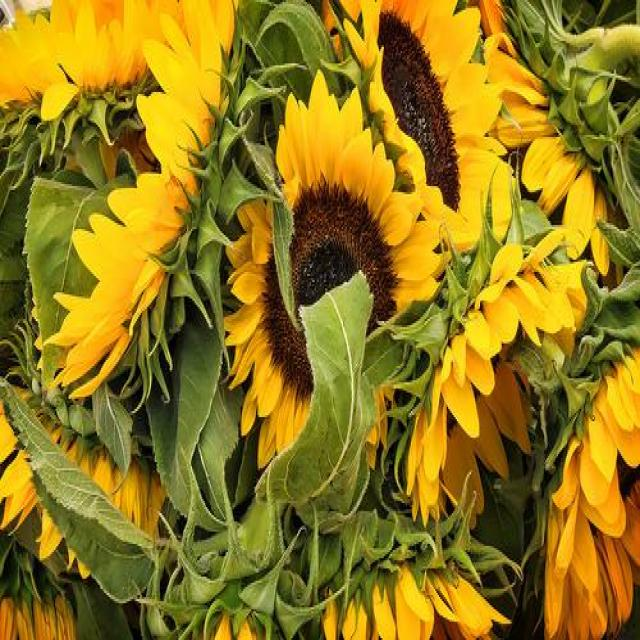sunflower: (0, 0, 235, 386), (224, 70, 444, 478), (405, 247, 583, 526), (332, 0, 520, 252), (488, 0, 640, 276), (541, 343, 639, 640)
